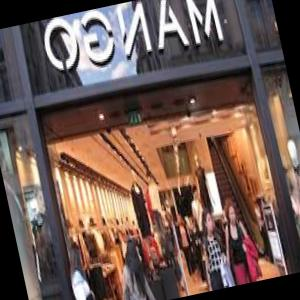mango: (35, 0, 229, 88)
